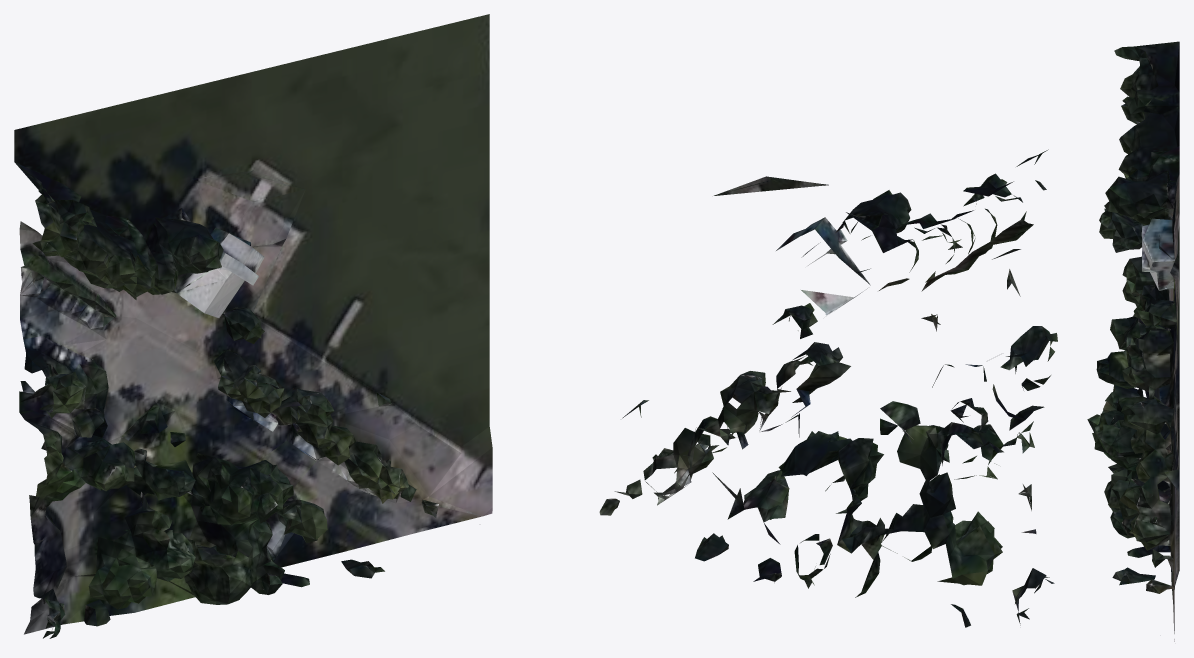
File: Tile_+034_+024_L17_0000.glb
3 renders of one model, left to right at view 1: azimuth 30°, elevation 25°; view 2: azimuth 150°, elevation 25°; view 3: azimuth 270°, elevation 25°, orthographic. The views are drawn at different scales.
Bounding box in the file's own units: 126 × 126 × 24.54.
1 material, 1 textured.
